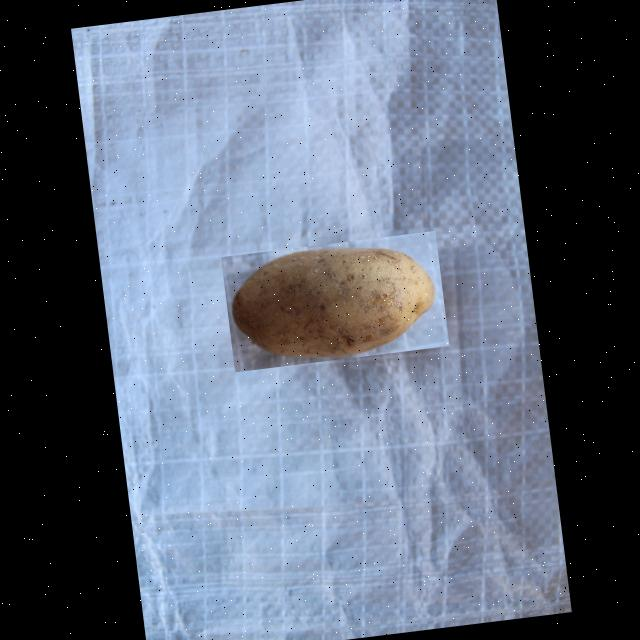Diseased-fungal potato: (220, 230, 448, 372)
